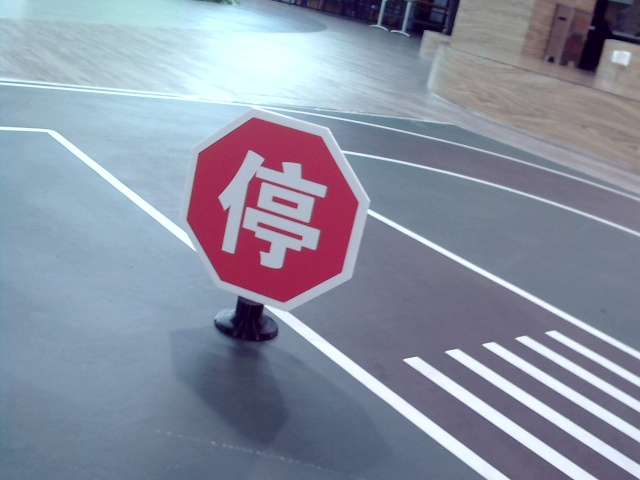stop: (220, 149, 324, 265)
